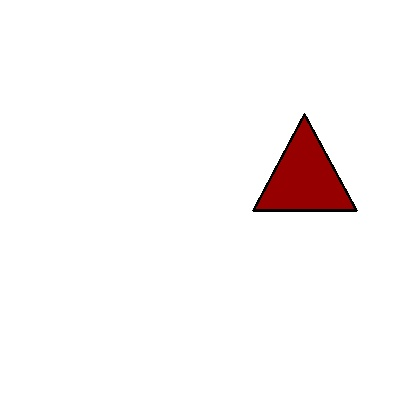triangle: (253, 114, 356, 210)
